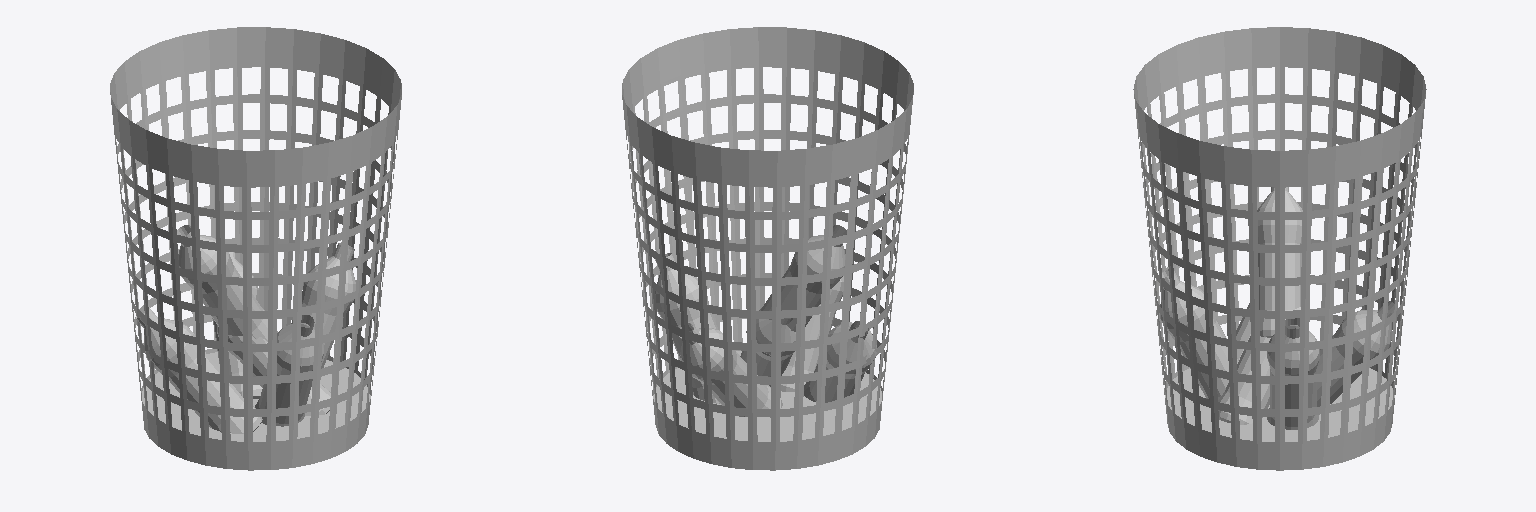
The model's file is DustbinWithCan_000031.obj.
The picture shows the model from 3 angles: view 1: azimuth 30°, elevation 25°; view 2: azimuth 150°, elevation 25°; view 3: azimuth 270°, elevation 25°; orthographic projection.
Visible parts, largest first — view 1: Cylinder, Plane.005, Plane.006, Plane.001, Plane.003, Plane.004, Plane.002; view 2: Cylinder, Plane.006, Plane.002, Plane.005, Plane.003, Plane.001, Plane.004; view 3: Cylinder, Plane.006, Plane.001, Plane.003, Plane.002, Plane.004.
Part boxes in pixels (bbox=[...]): Cylinder: bbox=[110, 27, 401, 470]; Plane.005: bbox=[135, 307, 262, 433]; Plane.006: bbox=[177, 225, 277, 341]; Plane.001: bbox=[255, 315, 323, 426]; Plane.003: bbox=[291, 243, 355, 368]; Plane.004: bbox=[217, 325, 330, 415]; Plane.002: bbox=[212, 252, 262, 398]; Cylinder: bbox=[622, 27, 913, 470]; Plane.006: bbox=[746, 225, 846, 356]; Plane.002: bbox=[679, 323, 782, 416]; Plane.005: bbox=[804, 321, 876, 402]; Plane.003: bbox=[655, 253, 719, 403]; Plane.001: bbox=[770, 276, 843, 391]; Plane.004: bbox=[740, 318, 795, 385]; Cylinder: bbox=[1133, 27, 1426, 470]; Plane.006: bbox=[1257, 187, 1302, 337]; Plane.001: bbox=[1160, 269, 1238, 399]; Plane.003: bbox=[1267, 318, 1319, 429]; Plane.002: bbox=[1317, 301, 1394, 406]; Plane.004: bbox=[1218, 307, 1300, 424].
Size of the model in its own units: 2.6 by 3.27 by 2.6.